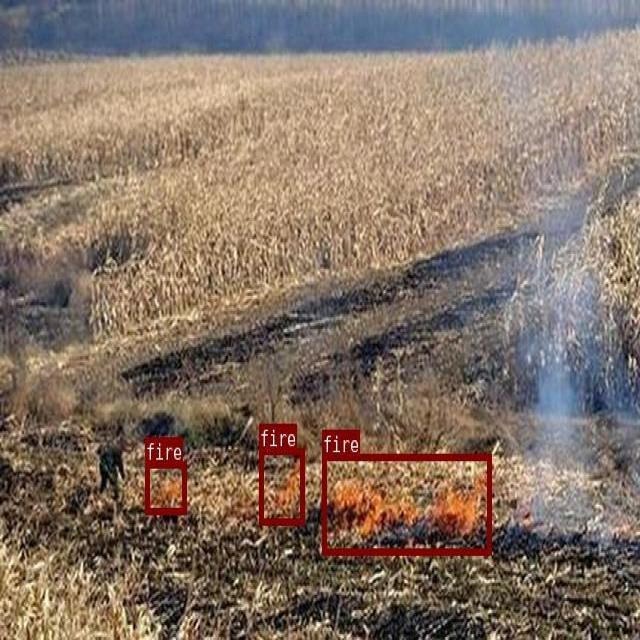fire: (321, 453, 491, 554), (259, 447, 303, 524), (145, 461, 186, 513)
